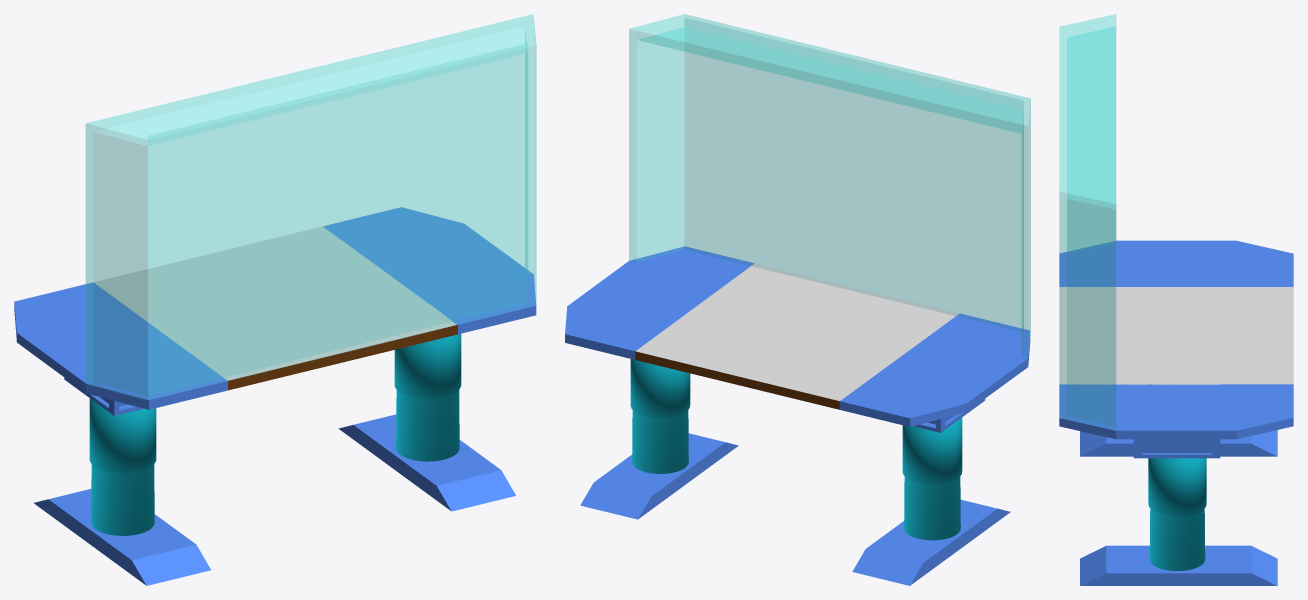
Rendered from table_tier12.fbx.
3 views of the same model, side by side, from view 1: azimuth 30°, elevation 25°; view 2: azimuth 150°, elevation 25°; view 3: azimuth 270°, elevation 25° (orthographic). The views are drawn at different scales.
Parts seen in each view (by area): view 1: Cube, Cube.006, Cube.008, Cube.007, Cylinder, Cylinder.001, Cube.003, Cube.004; view 2: Cube, Cube.006, Cube.008, Cube.007, Cylinder, Cylinder.001, Cube.003, Cube.004; view 3: Cube, Cube.006, Cube.007, Cube.008, Cube.004, Cylinder.001, Cube.003, Cube.005.
Boxes of the visible parts, x1,y1,x2,y2 form: Cube: [86, 14, 536, 400]; Cube.006: [94, 226, 457, 390]; Cube.008: [14, 282, 227, 409]; Cube.007: [323, 207, 536, 334]; Cylinder: [89, 398, 156, 535]; Cylinder.001: [394, 333, 461, 461]; Cube.003: [34, 489, 210, 585]; Cube.004: [338, 414, 515, 511]; Cube: [629, 14, 1030, 358]; Cube.006: [635, 263, 959, 409]; Cube.008: [839, 313, 1030, 426]; Cube.007: [565, 246, 754, 359]; Cylinder: [902, 417, 962, 540]; Cylinder.001: [630, 359, 690, 473]; Cube.003: [852, 499, 1010, 585]; Cube.004: [580, 433, 738, 519]; Cube: [1059, 14, 1116, 430]; Cube.006: [1059, 287, 1293, 384]; Cube.007: [1059, 384, 1293, 439]; Cube.008: [1059, 240, 1293, 286]; Cube.004: [1080, 545, 1277, 585]; Cylinder.001: [1148, 458, 1206, 570]; Cube.003: [1080, 430, 1277, 456]; Cube.005: [1133, 439, 1220, 458].
Bounding box in the file's own units: 209 × 203 × 108.
